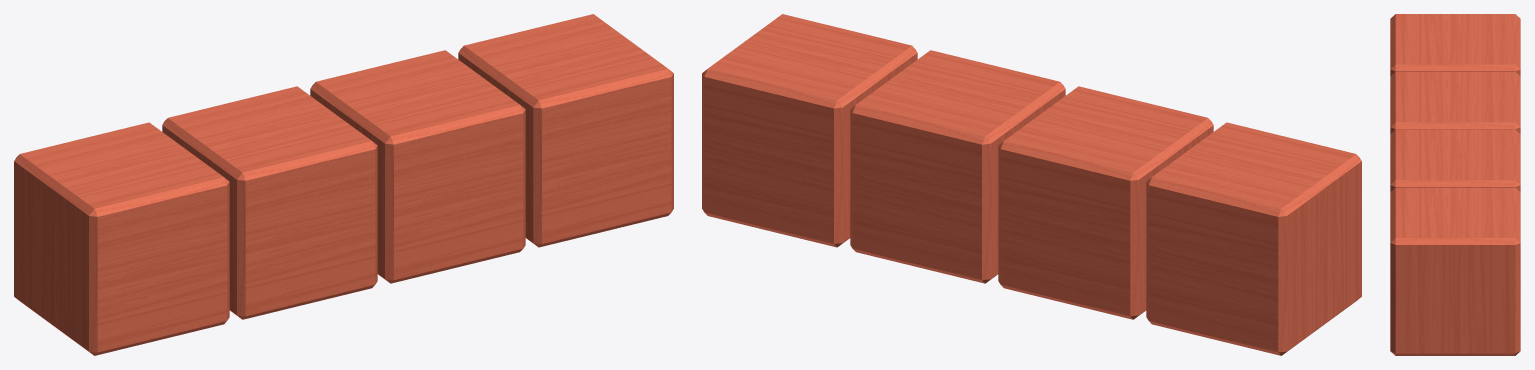
Rendered from piece_I4.glb.
3 views of the same model, side by side, from view 1: azimuth 30°, elevation 25°; view 2: azimuth 150°, elevation 25°; view 3: azimuth 270°, elevation 25° (orthographic). The views are drawn at different scales.
Parts seen in each view (by area): view 1: piece_I4; view 2: piece_I4; view 3: piece_I4.
Part boxes in pixels (left/top/right/bottom): piece_I4: left=14, top=14, right=673, bottom=355; piece_I4: left=702, top=14, right=1361, bottom=355; piece_I4: left=1390, top=14, right=1520, bottom=355.
Size of the model in its own units: 0.158 by 0.038 by 0.038.
Materials: 1 (1 with a texture image).
